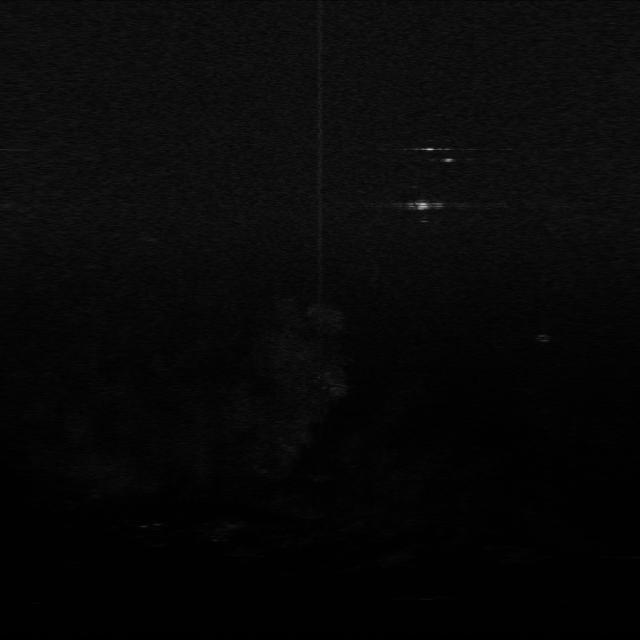rov: (412, 196, 433, 213)
